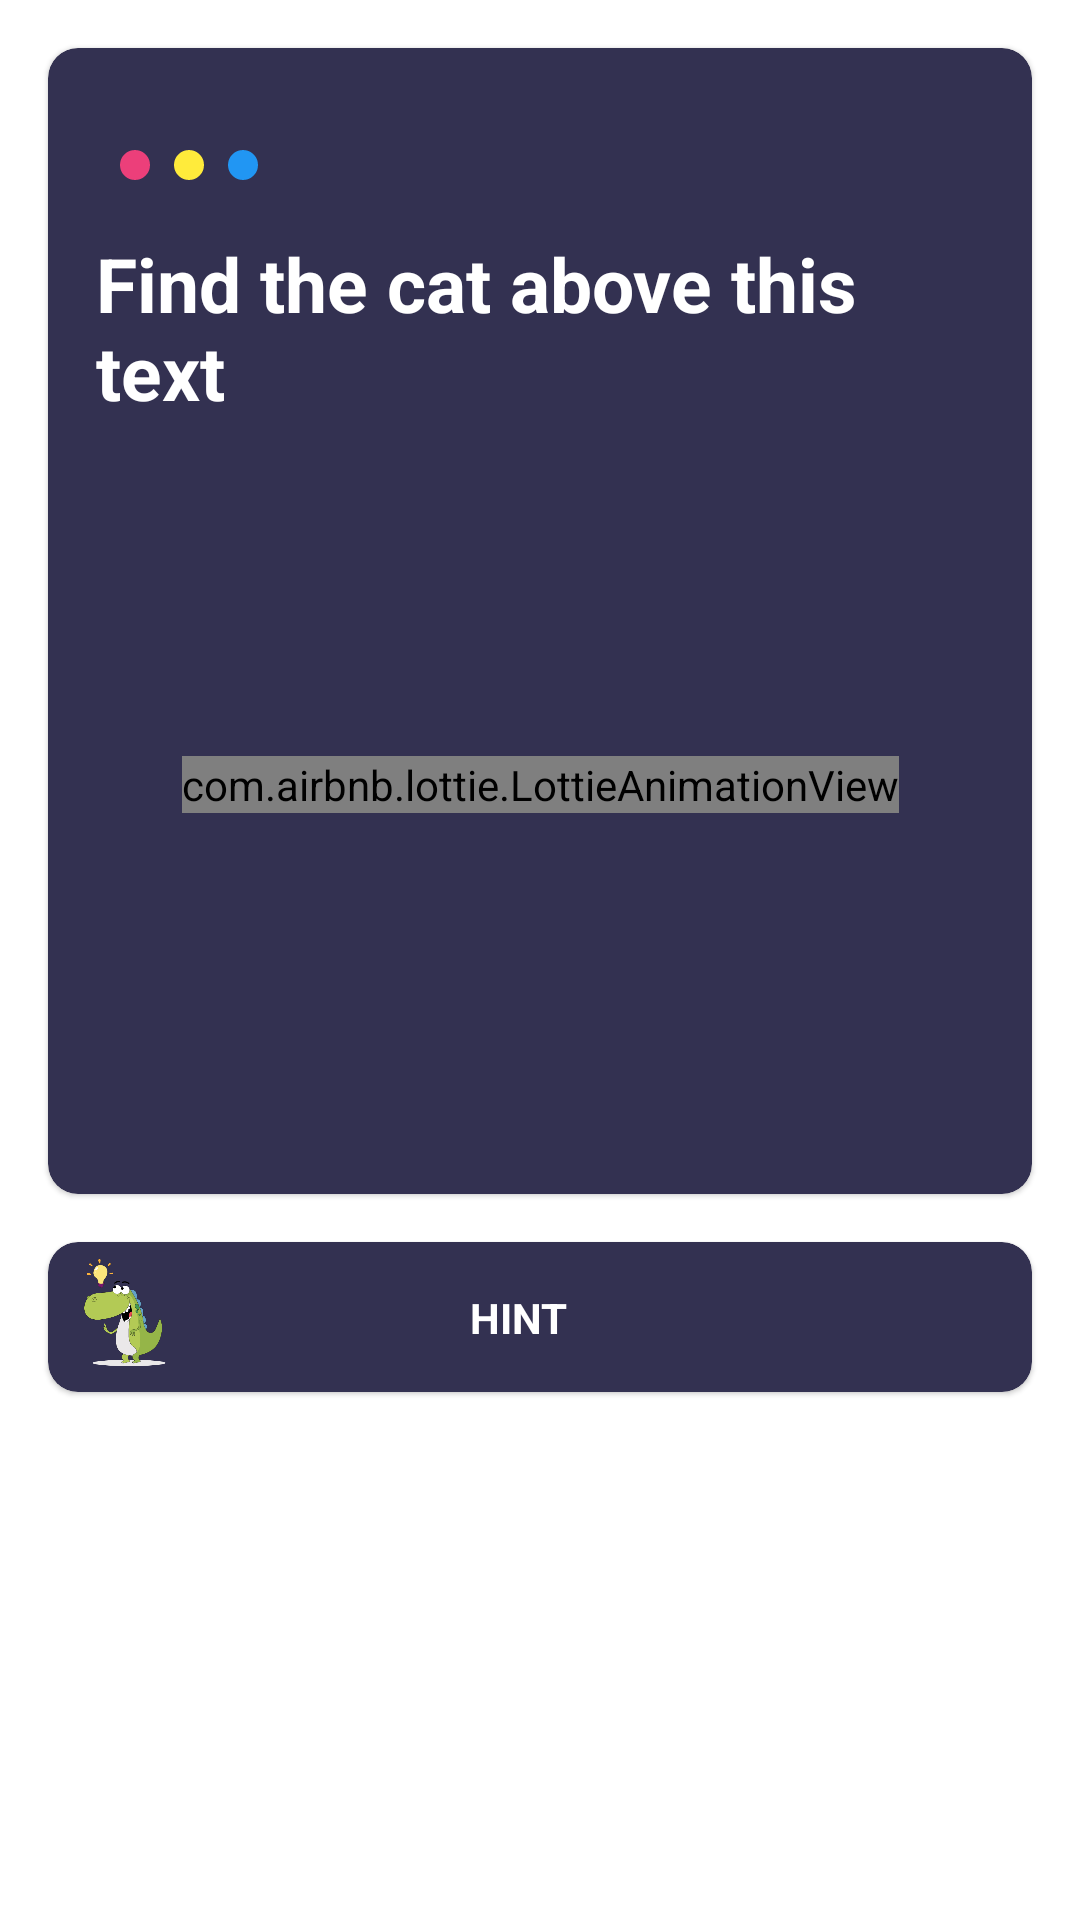

Icons on this 1080px x 1920px Android screen, each with its box as (left=x1, top=y1, right=x2, bottom=y2):
idea: (left=48, top=1242, right=198, bottom=1392)
